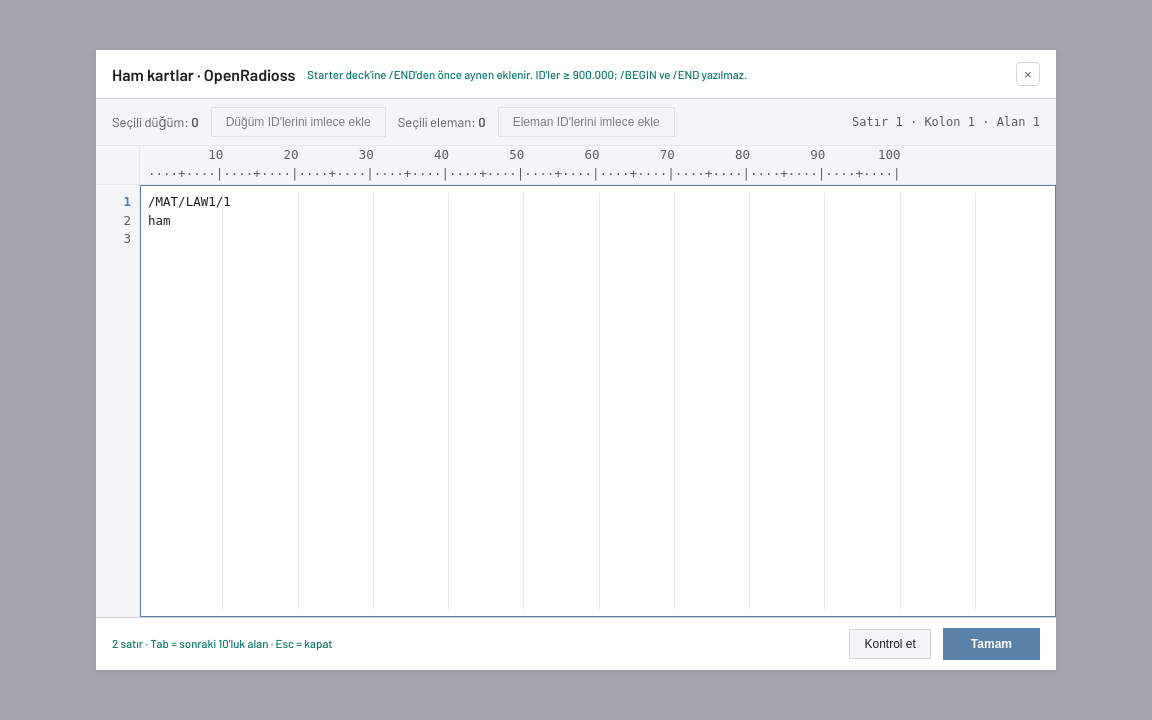
Scenario: CrashRawCardsEditor · Kontrol et (1.22e) › gövde + ham metinle iki uca gider; starter blokları ve çakışmalar aynen görünür
The width and height of the screenshot is (1152, 720).
Click the button "Kontrol et": coordinates (890, 644) top-left (850, 629), bottom-right (931, 659)
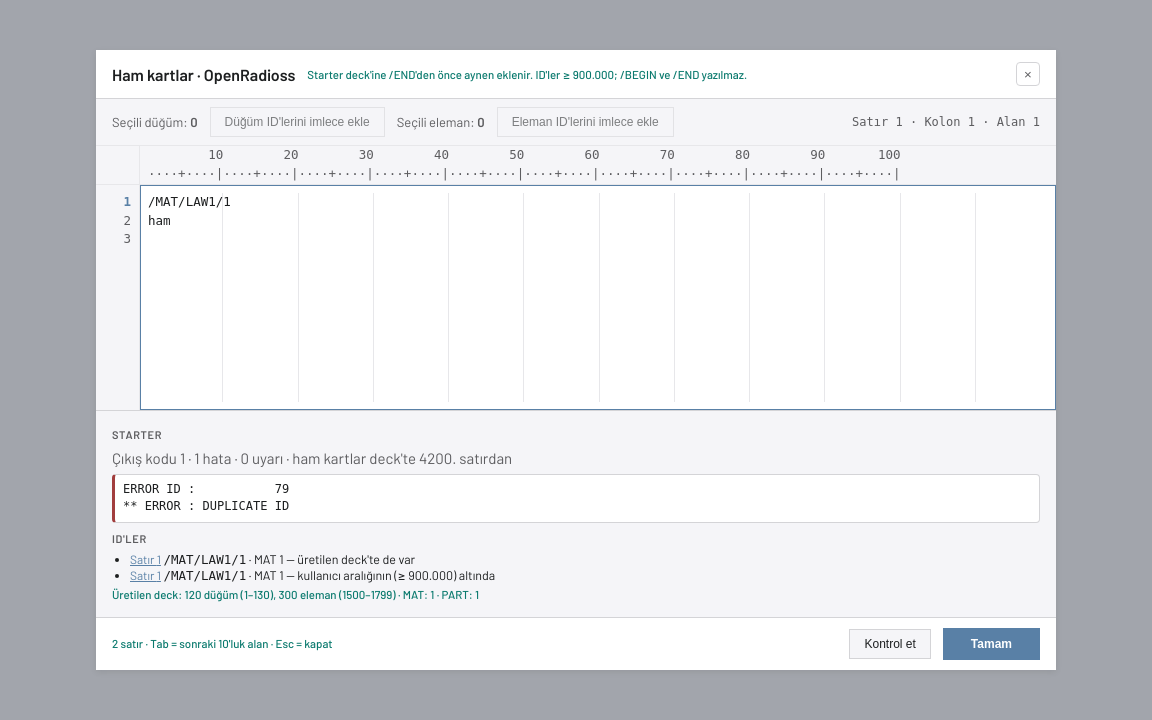
Check: the text with test id "raw-cards-starter-summary" reads "Çıkış kodu 1 · 1 hata · 0 uyarı · ham kartlar deck'te 4200. satırdan", box top-left (112, 449), bottom-right (512, 467)
Check: the text "ERROR ID : 79 ** ERROR : DUPLICATE ID" is shown, box top-left (112, 474), bottom-right (1040, 523)
Check: the list with test id "raw-cards-collisions" shows "üretilen deck'te de var", box top-left (297, 551), bottom-right (415, 567)
